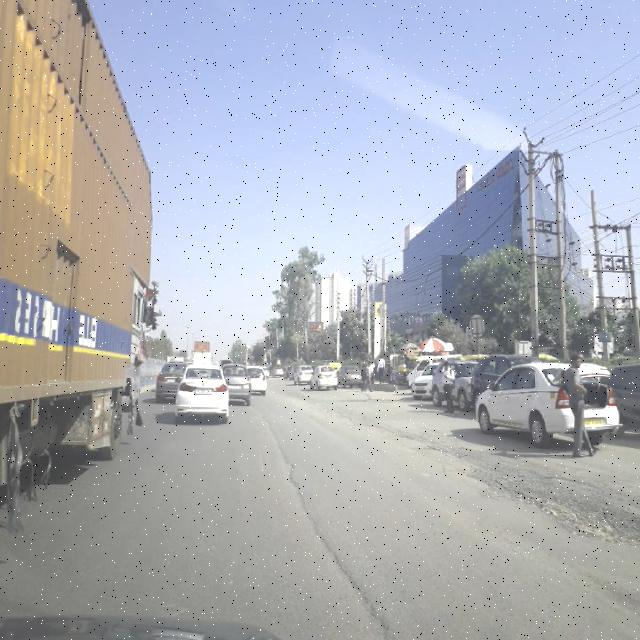D01: (256, 412, 378, 616)
